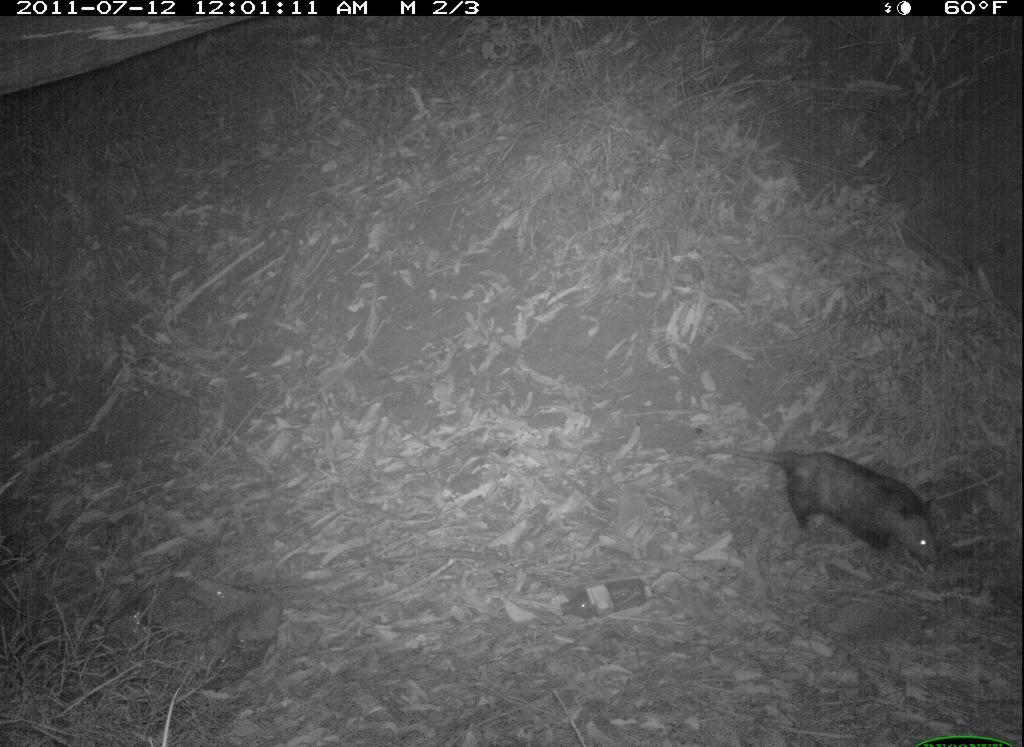opossum: (698, 433, 955, 571)
